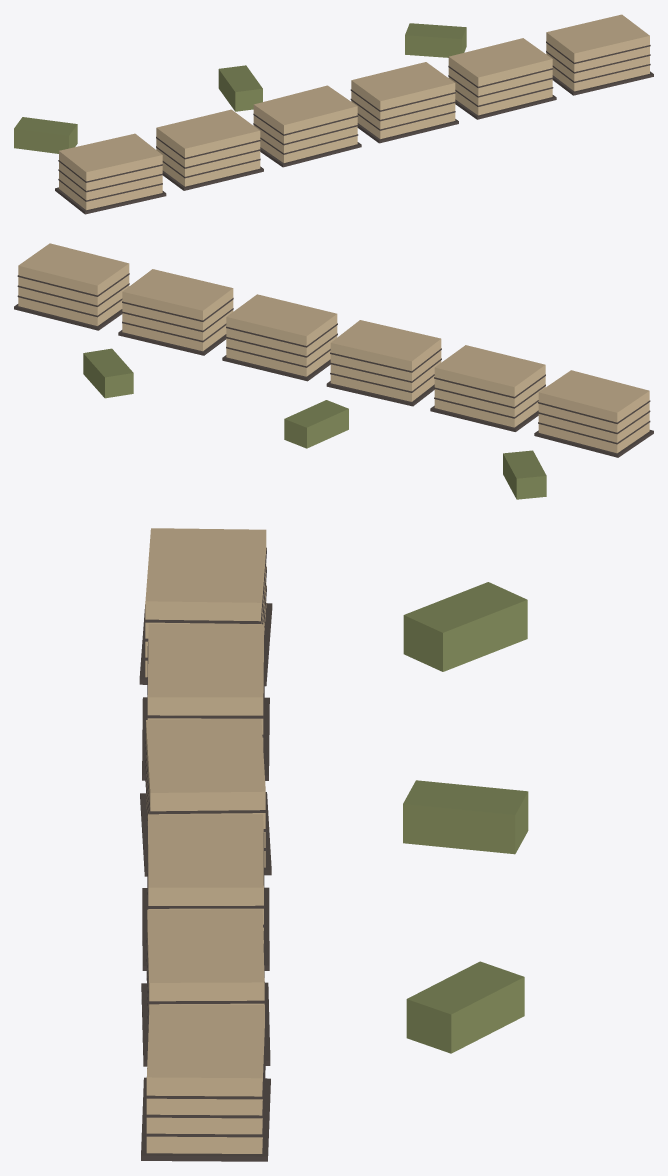
File: SM_AcopioMunicion_v2_Vacio_LOD1.fbx
3 views of the same model, one above another, from view 1: azimuth 30°, elevation 25°; view 2: azimuth 150°, elevation 25°; view 3: azimuth 270°, elevation 25° (orthographic). The views are drawn at different scales.
Visible parts, largest first — view 1: SM_acopio_carga_v2_LOD1; view 2: SM_acopio_carga_v2_LOD1; view 3: SM_acopio_carga_v2_LOD1.
Boxes of the visible parts, x1,y1,x2,y2 form: SM_acopio_carga_v2_LOD1: [14, 14, 653, 214]; SM_acopio_carga_v2_LOD1: [14, 243, 653, 499]; SM_acopio_carga_v2_LOD1: [139, 528, 528, 1161].
Size of the model in its own units: 9.1 by 0.62 by 2.7.
